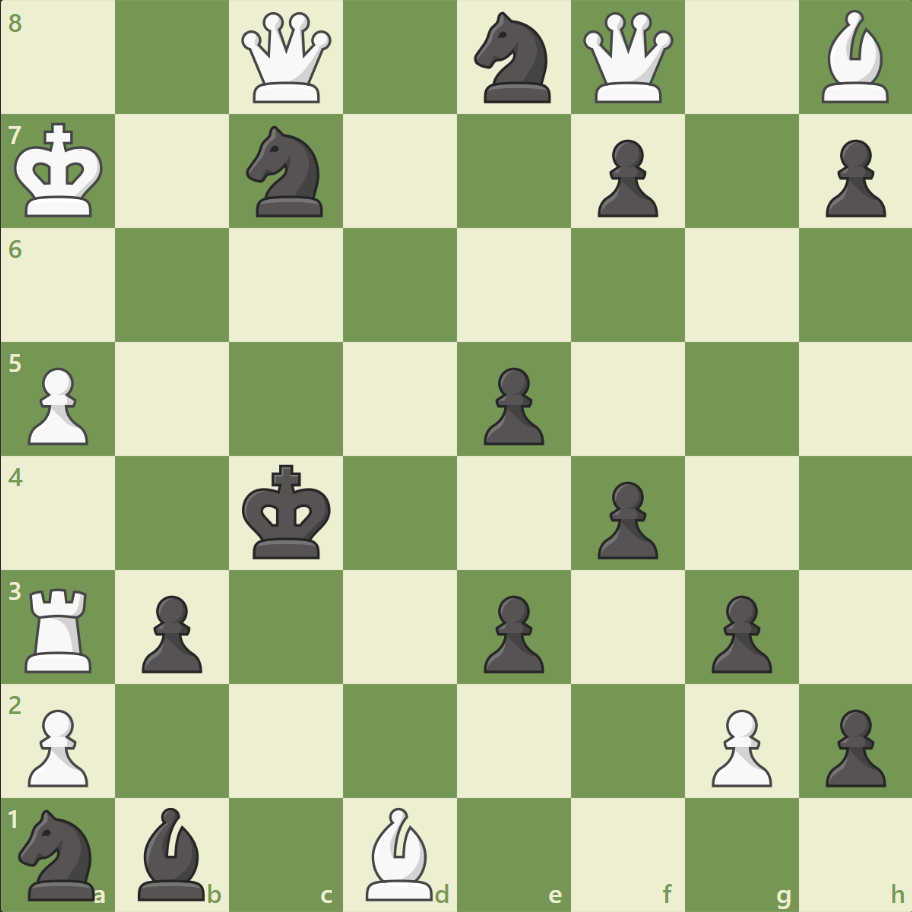B: (812, 6, 896, 109), (358, 801, 442, 904)
K: (11, 117, 111, 225)
P: (20, 359, 95, 450), (20, 700, 95, 791), (701, 700, 776, 791)
Q: (237, 9, 336, 108), (578, 9, 677, 108)
R: (19, 579, 102, 676)
b: (131, 801, 215, 904)
k: (238, 458, 338, 566)
n: (465, 7, 562, 110), (238, 121, 335, 223), (11, 802, 108, 904)
p: (474, 359, 549, 450), (133, 586, 208, 677), (474, 586, 549, 677), (701, 586, 776, 677), (588, 132, 662, 223), (815, 132, 889, 223), (588, 473, 662, 564), (815, 700, 889, 791)
